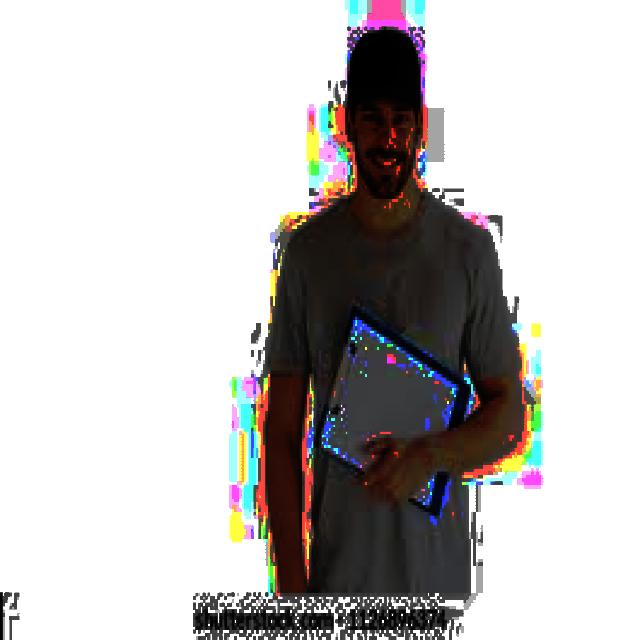TOPI: (340, 20, 418, 115)
